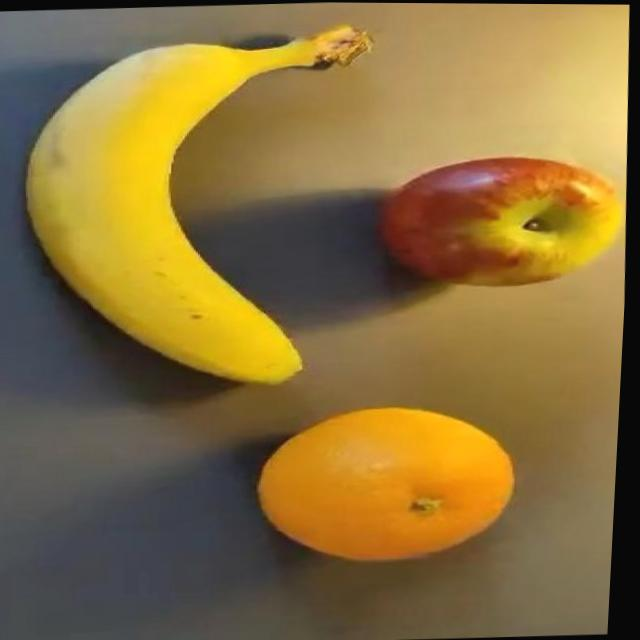Apple: (375, 148, 633, 288)
Banana: (17, 23, 325, 394)
Orange: (250, 400, 527, 568)
